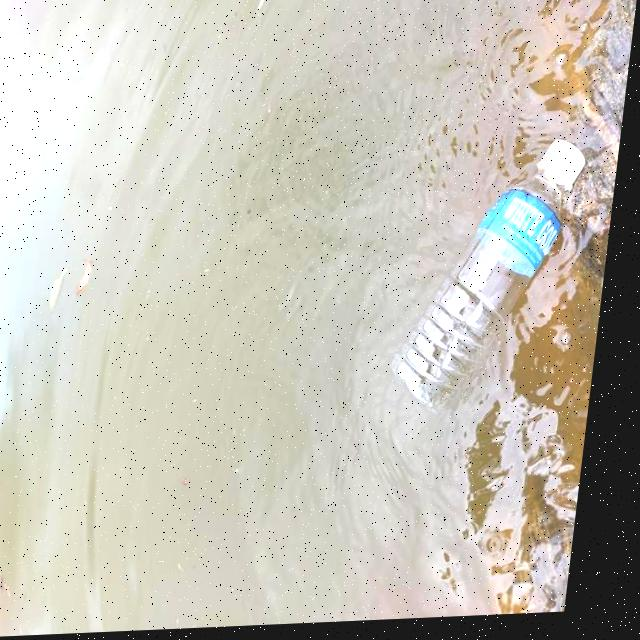waterbottle: (356, 122, 613, 420)
